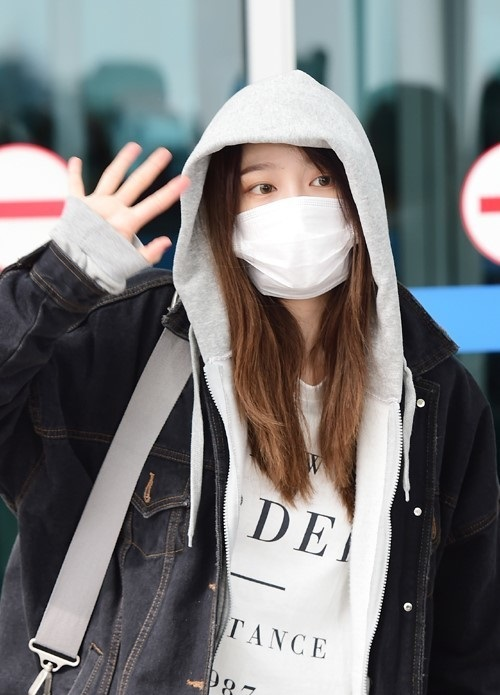face_mask: (230, 123, 345, 300)
